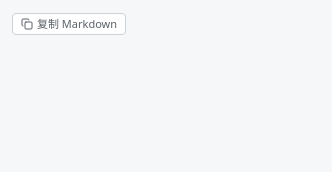
Test: CopyMarkdownButton — 行为 › clipboard 不存在 → "复制失败"
Click the button with test id "copy-md-btn".
click(69, 24)  # box [12,13,126,35]
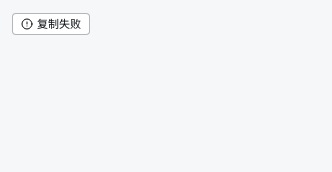
expect the button with test id "copy-md-btn" reads "复制失败": met, box [12,13,90,35]
